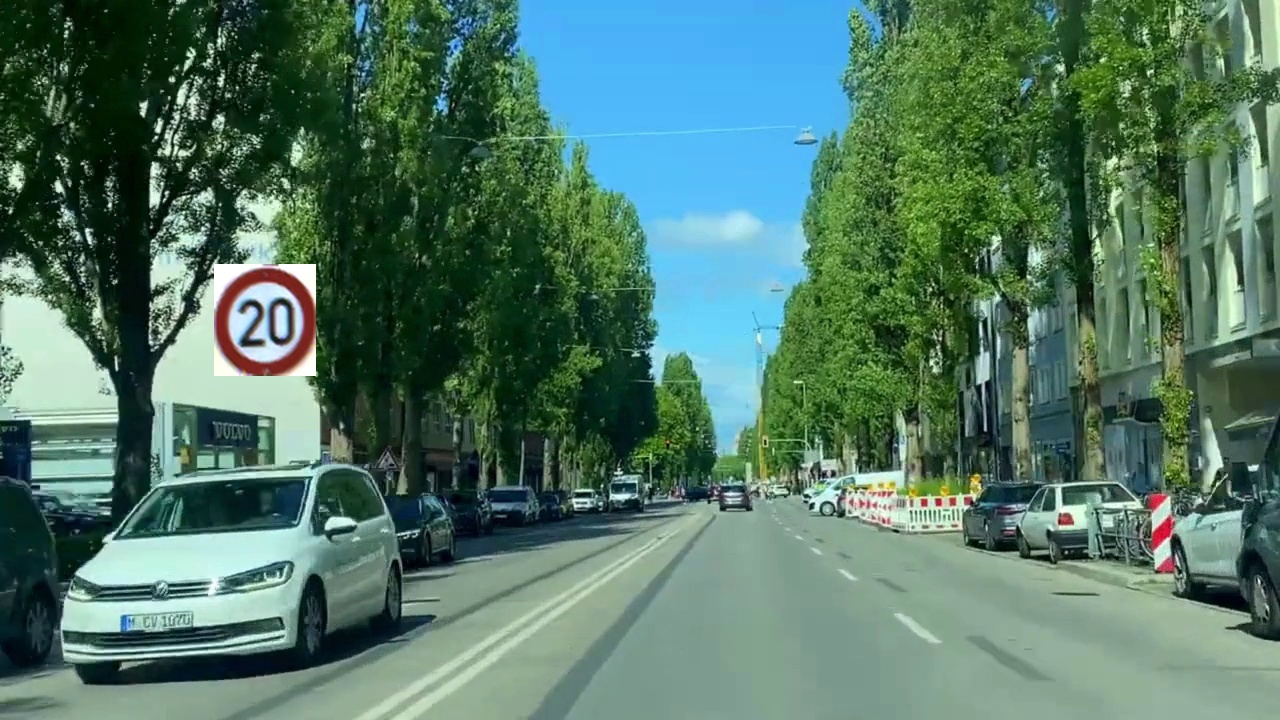Speed 20: (214, 264, 316, 376)
